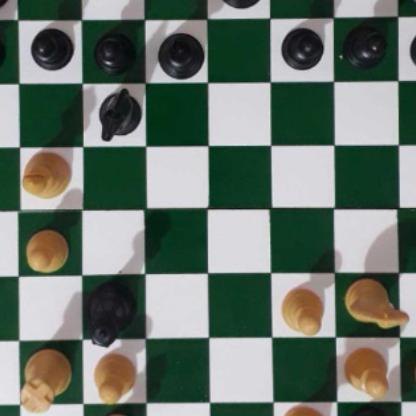black-bishop: (155, 29, 204, 80), (344, 407, 400, 416)
black-king: (213, 0, 266, 8)
black-knight: (94, 88, 143, 142)
black-pawn: (343, 23, 388, 66), (281, 23, 323, 69), (93, 27, 134, 73), (29, 25, 70, 70), (409, 24, 416, 72), (0, 27, 3, 70)
black-queen: (84, 278, 137, 350)
black-rook: (0, 0, 12, 9), (407, 0, 416, 5)
white-bishop: (20, 150, 70, 199), (93, 412, 143, 416)
white-king: (278, 405, 336, 416)
white-knight: (342, 276, 411, 330)
white-pawn: (342, 346, 391, 399), (90, 351, 137, 404), (23, 227, 70, 276), (279, 285, 323, 334), (413, 351, 416, 399)
white-rook: (17, 346, 74, 413)
